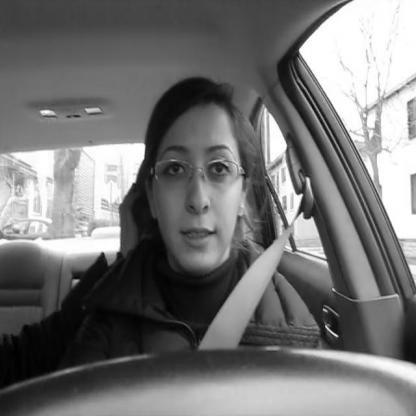seatbelt: (125, 40, 326, 416)
